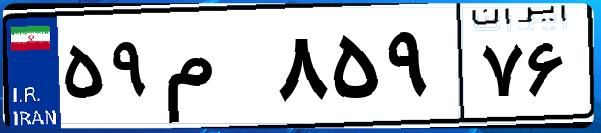5: (330, 28, 385, 110), (57, 26, 110, 100)
6: (525, 38, 570, 115)
7: (475, 38, 525, 113)
8: (270, 28, 330, 110)
9: (385, 28, 445, 110), (110, 28, 158, 98)
م: (158, 20, 270, 120)
